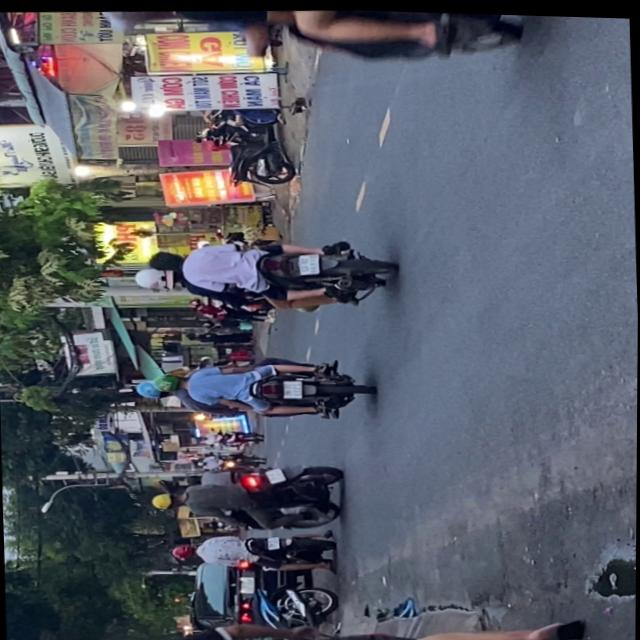helmet: (97, 7, 173, 25), (132, 262, 177, 289), (152, 370, 187, 390), (135, 376, 167, 397), (150, 489, 182, 507), (170, 540, 197, 558)
licenseplate: (73, 2, 568, 76), (131, 227, 398, 316), (133, 348, 373, 424), (149, 456, 347, 532), (170, 524, 337, 575)
motorcyclist: (145, 247, 186, 269)
nohelmet: (297, 250, 319, 272), (283, 377, 303, 396), (266, 464, 285, 481), (267, 533, 280, 546)
